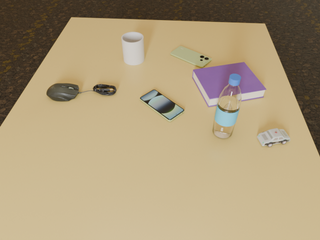book: (192, 62, 266, 107)
bottle: (213, 74, 241, 138)
cup: (122, 32, 144, 65)
mouse: (47, 83, 82, 101)
phone: (140, 90, 184, 121), (171, 46, 211, 68)
toy_car: (257, 129, 290, 147)
